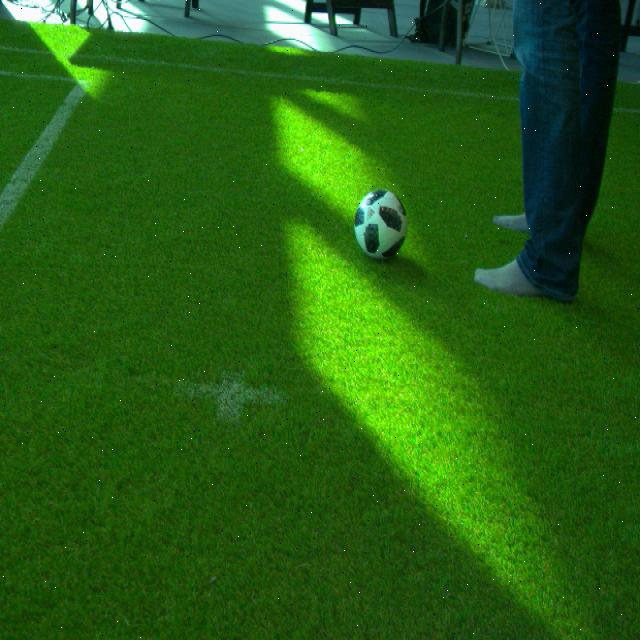ball: (353, 189, 407, 259)
